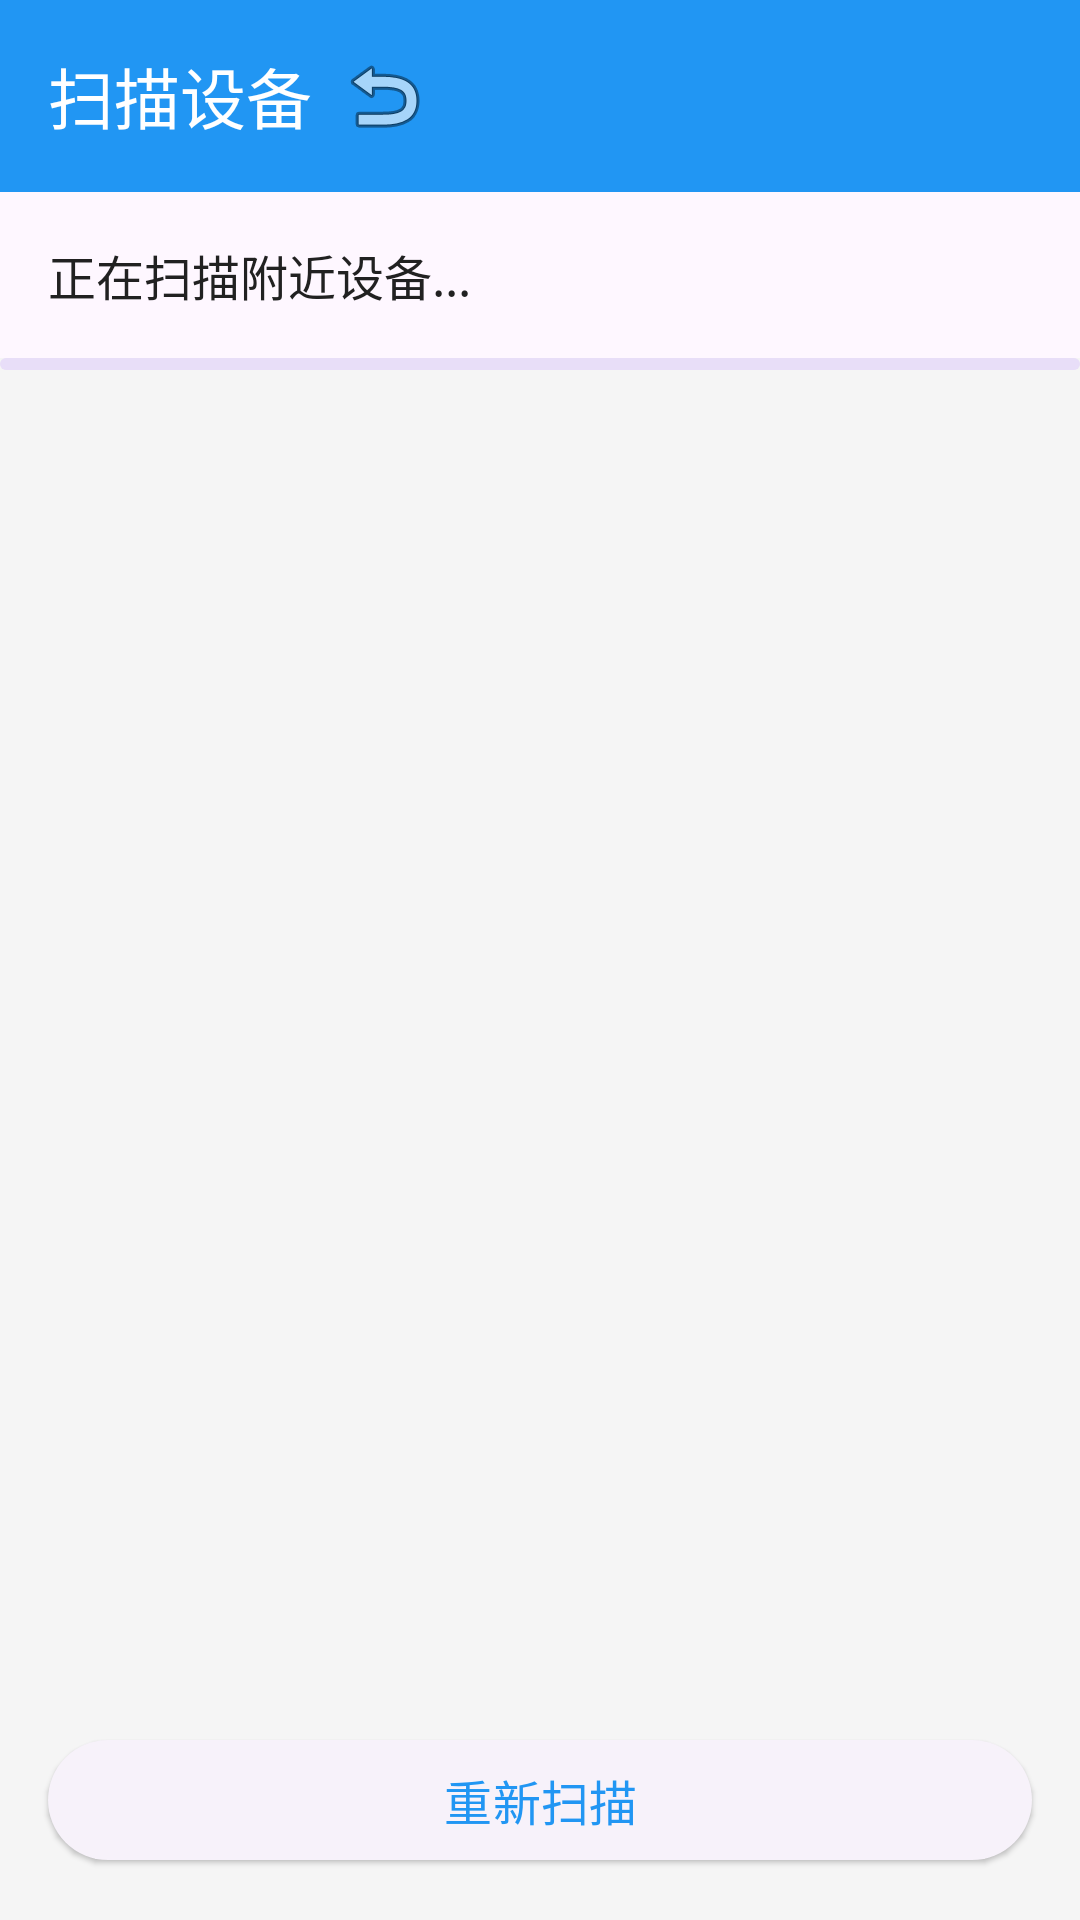

Icon bounding boxes for this 1080 x 1920 phone screenshot, format (x1, y1, x2, y2):
返回: (351, 65, 420, 128)
